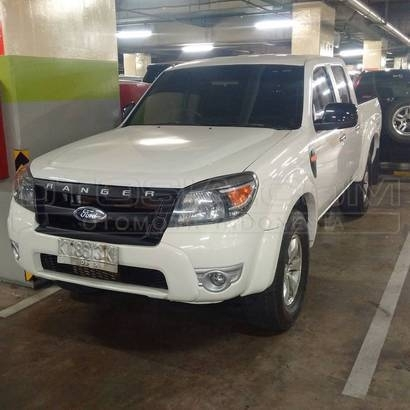plate: (58, 238, 118, 274)
